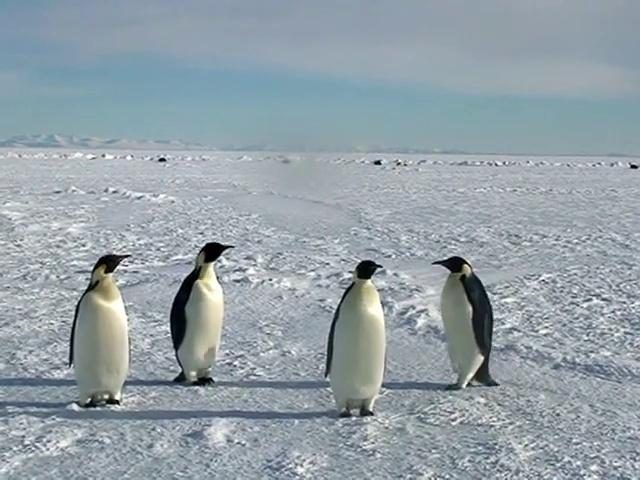animal: (327, 261, 387, 417)
